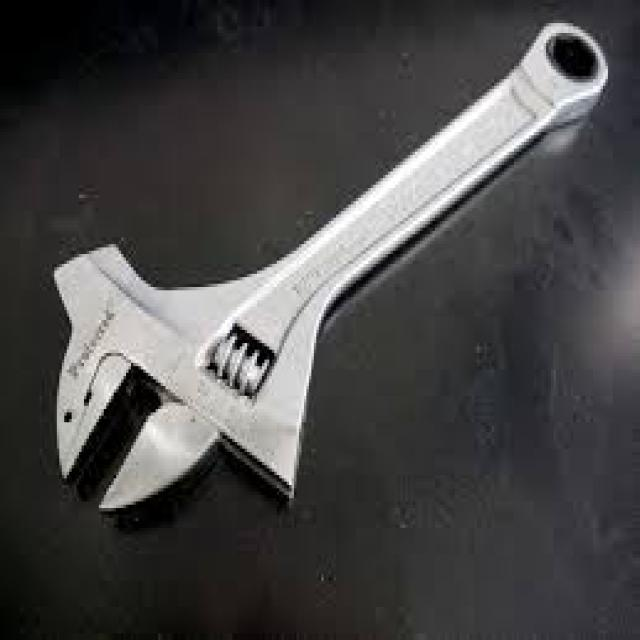wrench: (24, 128, 640, 516)
